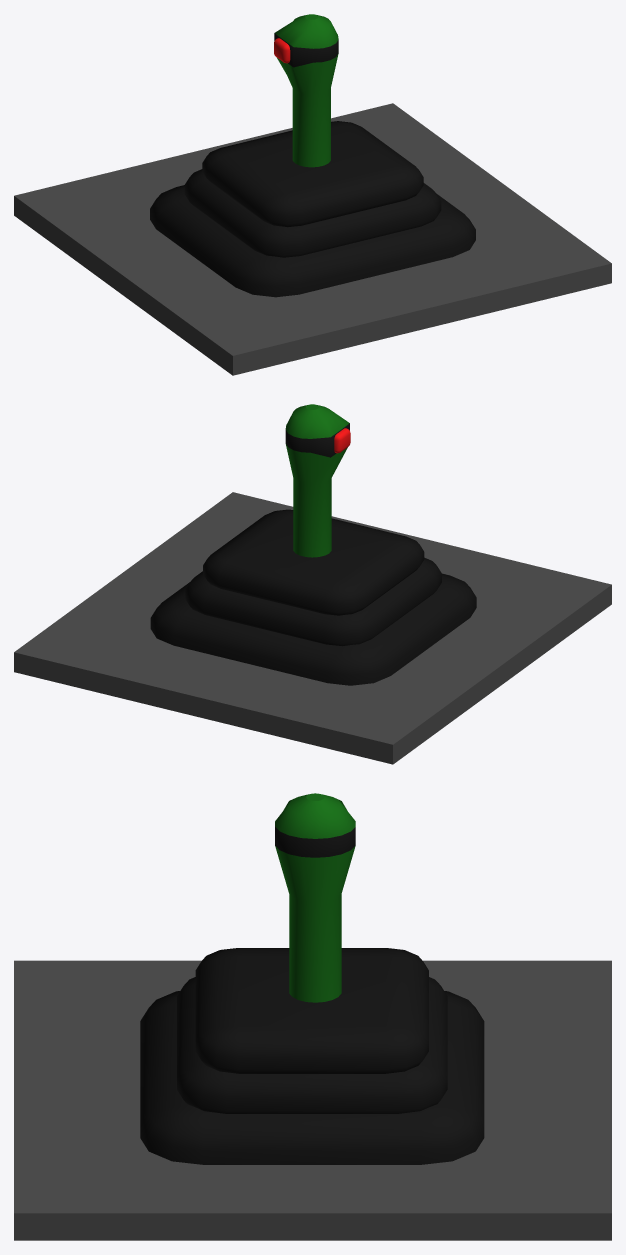
Rendered from joystickBasis.obj.
3 views of the same model, one above another, from view 1: azimuth 30°, elevation 25°; view 2: azimuth 150°, elevation 25°; view 3: azimuth 270°, elevation 25° (orthographic). The views are drawn at different scales.
Visible parts, largest first — view 1: ChamferBox004, Cylinder001; view 2: ChamferBox004, Cylinder001; view 3: ChamferBox004, Cylinder001.
Part boxes in pixels (x1,y1,x2,y2): ChamferBox004: (14, 103, 611, 375); Cylinder001: (274, 14, 338, 167); ChamferBox004: (14, 492, 611, 764); Cylinder001: (285, 404, 350, 557); ChamferBox004: (14, 948, 611, 1240); Cylinder001: (275, 793, 355, 1002).
Size of the model in its own units: 10 by 5.84 by 10.
